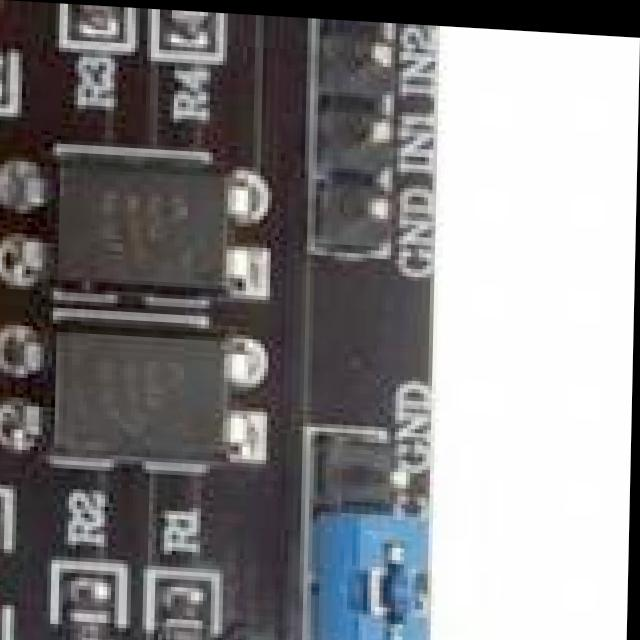IC: (16, 301, 275, 485), (23, 145, 265, 300)
connector: (313, 419, 433, 640), (316, 15, 408, 263)
diode: (0, 0, 28, 113), (0, 496, 11, 640)
resistor: (153, 576, 222, 640), (69, 576, 122, 640), (67, 3, 124, 46), (163, 8, 216, 46)
